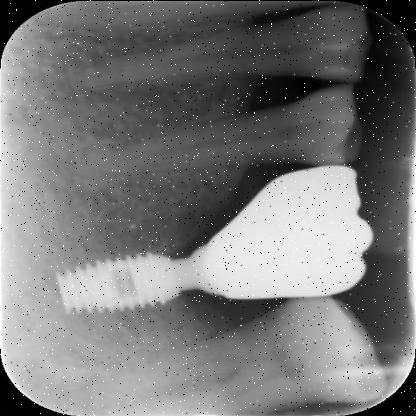Bicon: (60, 230, 184, 328)
